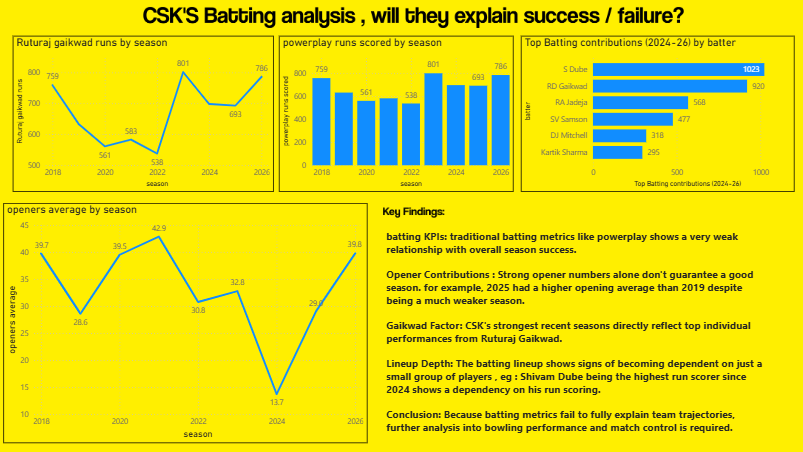

The dashboard page shown, as its layout file describes it:
{"tool":"powerbi","page":{"name":"Page 2","canvas":[1280,720],"ordinal":1},"visuals":[{"type":"clusteredColumnChart","fields":{"Category":["powerplay runs.season"],"Y":["Sum(powerplay runs.runs_scored)"]},"box":[435,58.3,383.3,246.7],"z":0},{"type":"lineChart","fields":{"Category":["opener avg.season"],"Y":["Sum(opener avg.openers_combined_average)"]},"box":[0,328.3,576.7,380],"z":1000},{"type":"lineChart","fields":{"Category":["powerplay runs.season"],"Y":["Sum(powerplay runs.runs_scored)"]},"box":[0,58.3,413.3,246.7],"z":2000},{"type":"clusteredBarChart","fields":{"Category":["most runs since 2024.batter"],"Y":["Sum(most runs since 2024.runs_scored)"]},"box":[846.7,58.3,433.3,246.7],"z":3000},{"type":"image","box":[231.7,11.7,856.7,35],"z":4000},{"type":"image","box":[586.7,193.3,96.7,290],"z":5000},{"type":"textbox","box":[586.7,360,636.7,360],"z":6000}]}

Visuals, with their boxes in screenshot pixels (x1, y1, x2, y2), scaled from the page's 1280x720 canvas onto the 803x452 screenshot:
clusteredColumnChart - powerplay runs.season x Sum(powerplay runs.runs_scored): (x1=273, y1=37, x2=513, y2=191)
lineChart - opener avg.season x Sum(opener avg.openers_combined_average): (x1=0, y1=206, x2=362, y2=445)
lineChart - powerplay runs.season x Sum(powerplay runs.runs_scored): (x1=0, y1=37, x2=259, y2=191)
clusteredBarChart - most runs since 2024.batter x Sum(most runs since 2024.runs_scored): (x1=531, y1=37, x2=802, y2=191)
image: (x1=145, y1=7, x2=683, y2=29)
image: (x1=368, y1=121, x2=429, y2=303)
textbox: (x1=368, y1=226, x2=767, y2=451)
